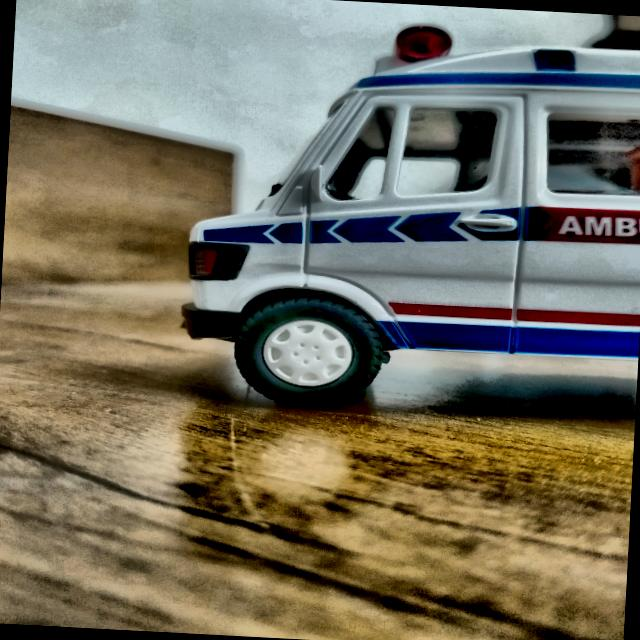Ambulance: (158, 5, 640, 470)
